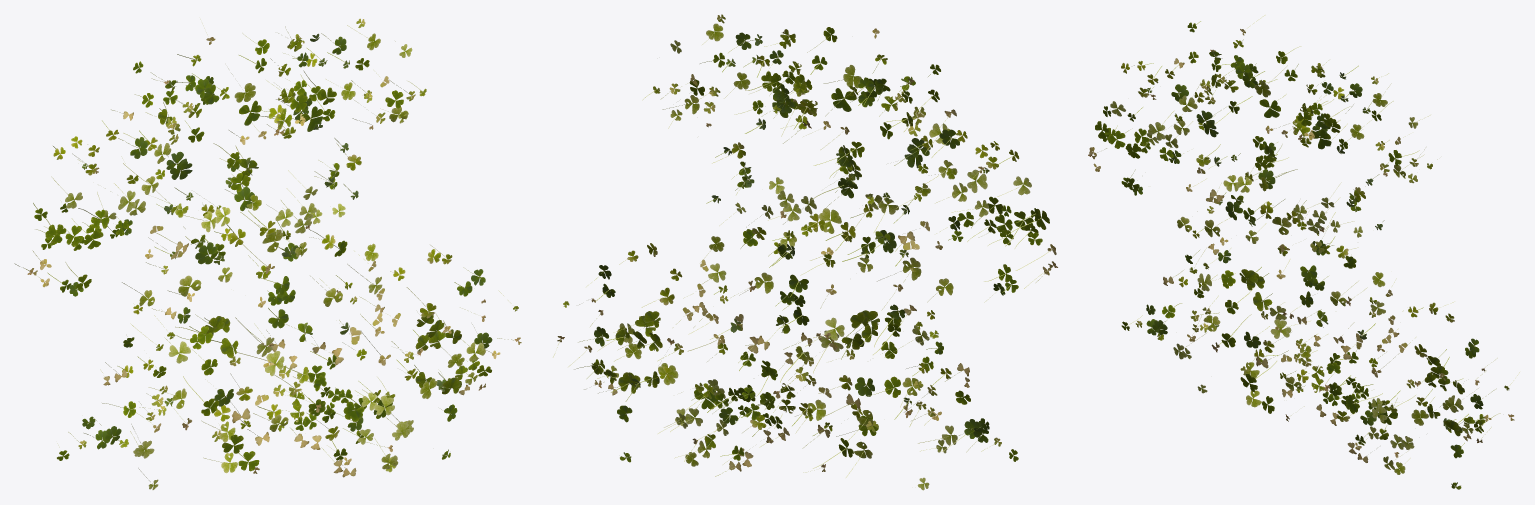
Rendered from Clovers_02_Var1_LOD1.fbx.
3 views of the same model, side by side, from view 1: azimuth 30°, elevation 25°; view 2: azimuth 150°, elevation 25°; view 3: azimuth 330°, elevation 25° (orthographic). The views are drawn at different scales.
Visible parts, largest first — view 1: Var1_LOD1; view 2: Var1_LOD1; view 3: Var1_LOD1.
Part boxes in pixels (bbox=[...]): Var1_LOD1: bbox=[14, 18, 521, 489]; Var1_LOD1: bbox=[553, 14, 1057, 490]; Var1_LOD1: bbox=[1088, 15, 1519, 489].
Size of the model in its own units: 136 by 128 by 15.01.
